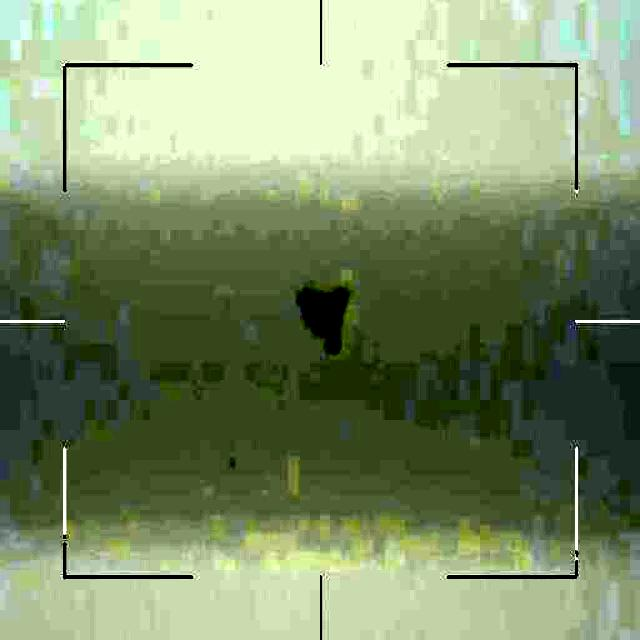bird: (296, 282, 358, 356)
